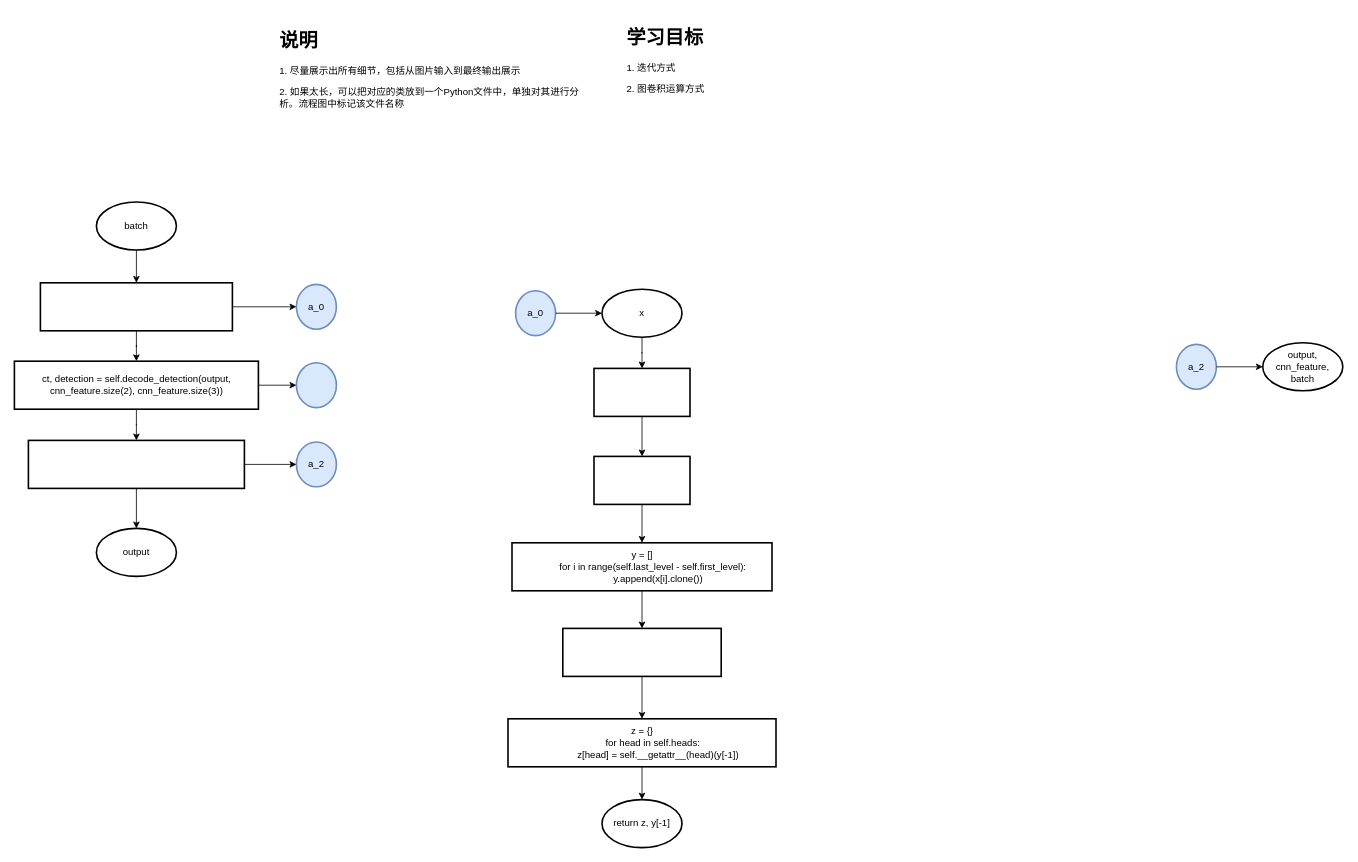
Some shapes in this 1358 by 862 pixel diagram are drawn without their labels. Each missing label, with the centre of its shape:
a_1: [316,385]
output = self.gcn(output, cnn_feature, batch): [136,464]
output, cnn_feature = self.dla(x): [136,306]
self.ida_up(y, 0, len(y)): [642,652]
x = self.base(x): [641,392]
x = self.dla_up(x): [641,480]
